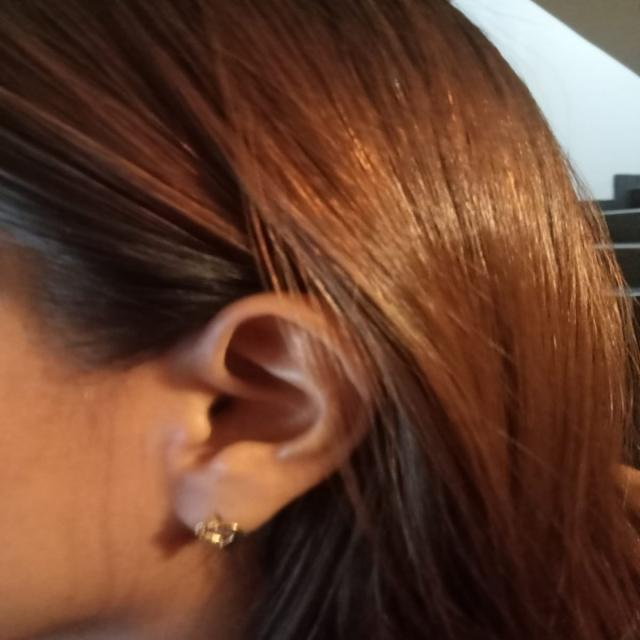ear: (165, 292, 362, 532)
